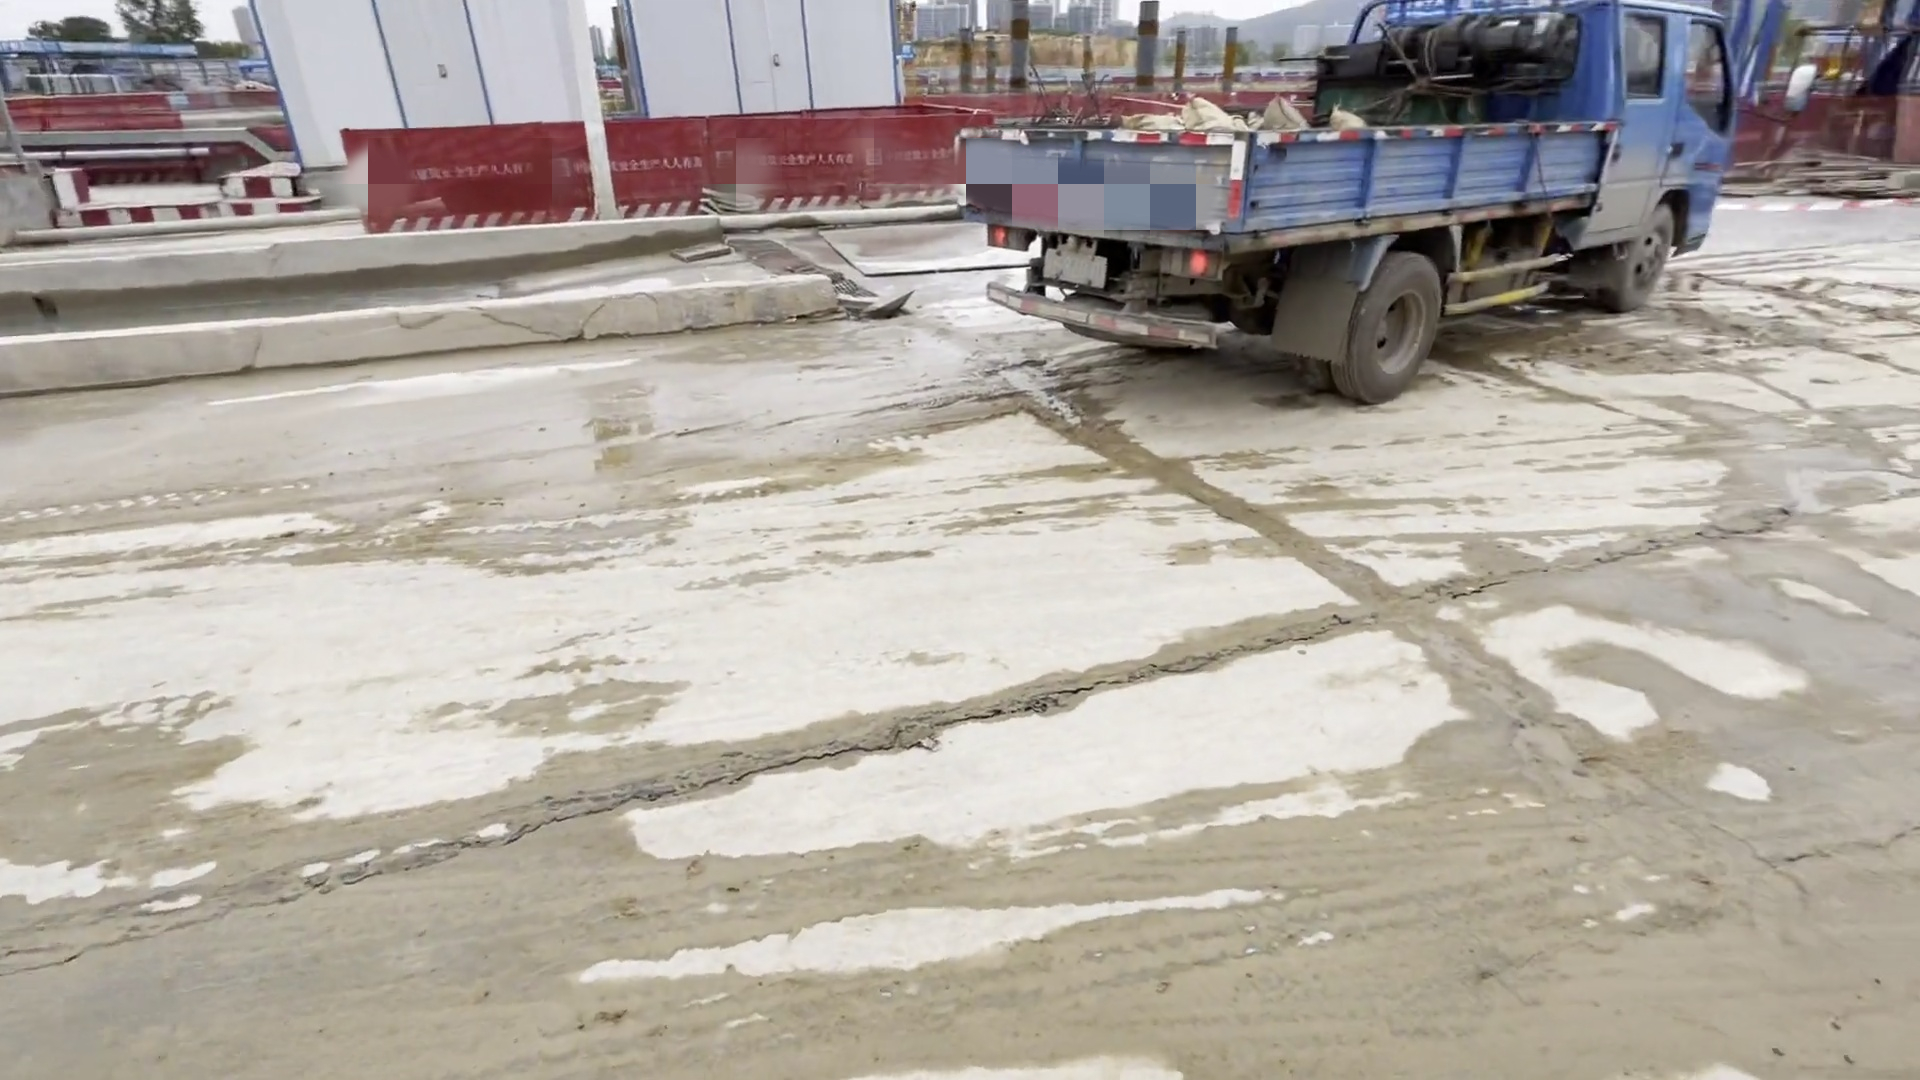fence: (345, 112, 1006, 257)
